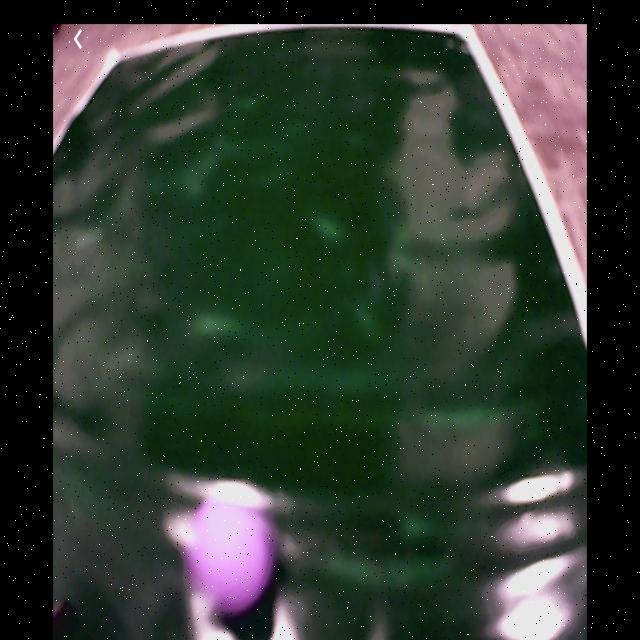ball: (166, 480, 280, 620)
